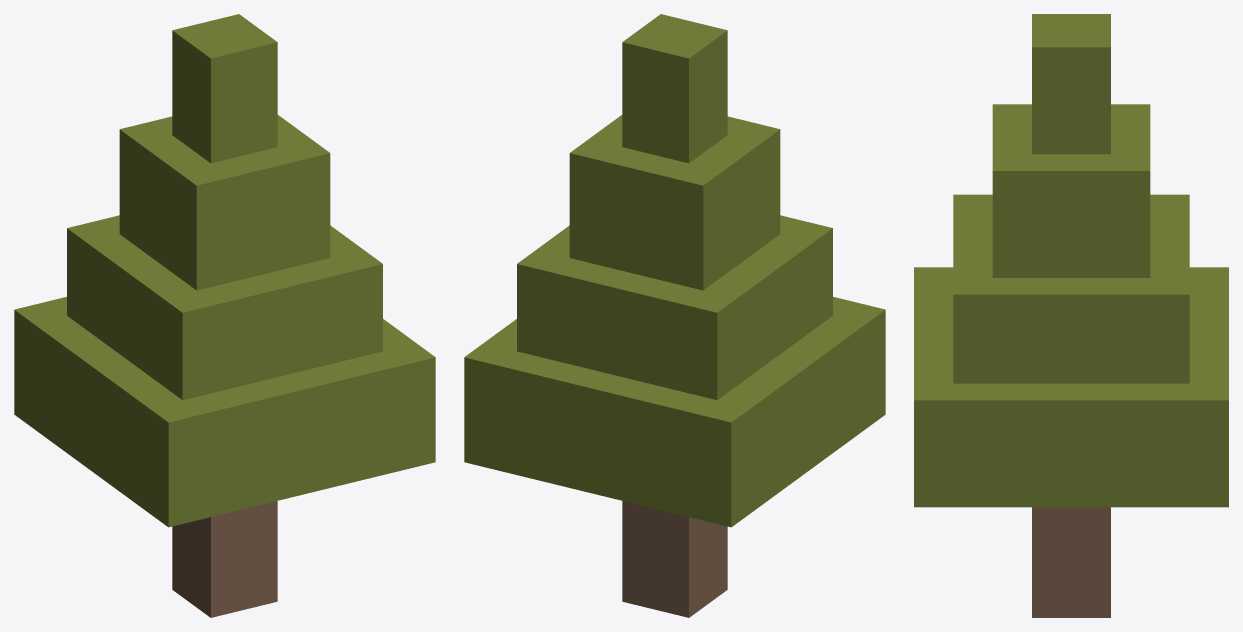
Rendered from SimpleTree.obj.
3 views of the same model, side by side, from view 1: azimuth 30°, elevation 25°; view 2: azimuth 150°, elevation 25°; view 3: azimuth 270°, elevation 25° (orthographic). The views are drawn at different scales.
Size of the model in its own units: 1.6 by 3.2 by 1.6.
1 material, 1 textured.
